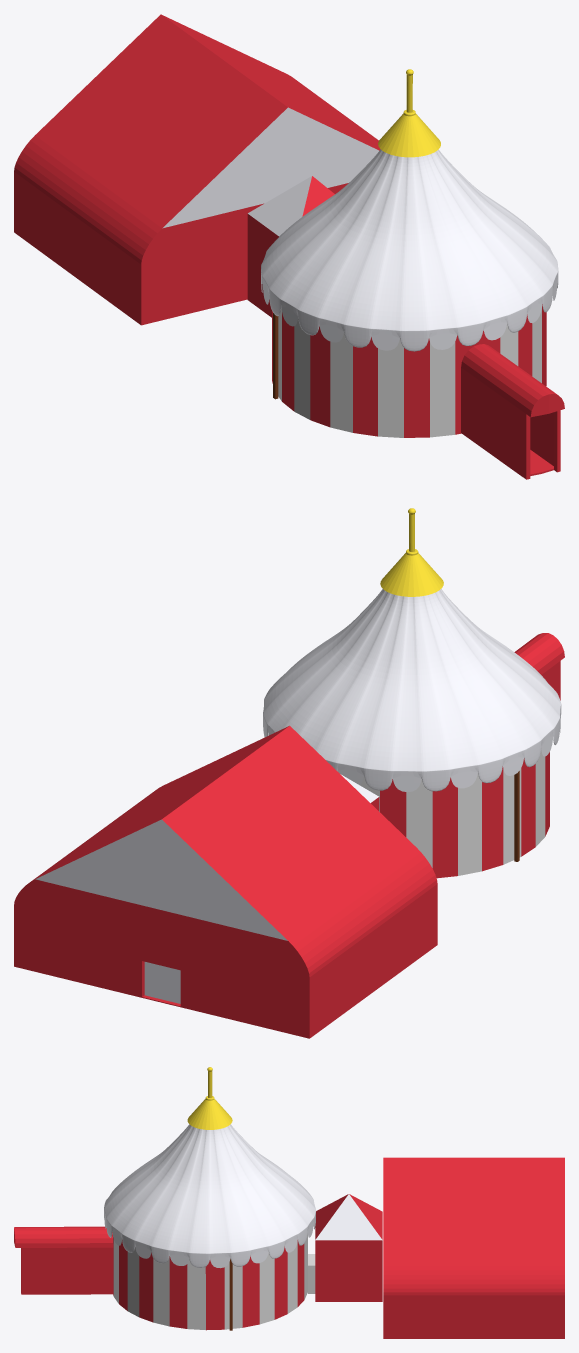
The model's file is BigTop(Ver4.2).fbx.
3 views of the same model, one above another, from view 1: azimuth 30°, elevation 25°; view 2: azimuth 150°, elevation 25°; view 3: azimuth 270°, elevation 25° (orthographic). The views are drawn at different scales.
Parts seen in each view (by area): view 1: Backrooms, Top, Main Body, Hallway, Topper; view 2: Backrooms, Top, Main Body, Topper; view 3: Backrooms, Top, Main Body, Hallway, Topper.
Part boxes in pixels (x1,y1,x2,y2): Backrooms: (14,14,380,325); Top: (261,149,558,351); Main Body: (272,304,564,479); Hallway: (247,176,334,317); Topper: (378,69,440,157); Backrooms: (14,725,437,1038); Top: (263,589,561,792); Main Body: (360,633,564,878); Topper: (380,508,443,596); Backrooms: (383,1157,564,1338); Top: (104,1124,315,1268); Main Body: (14,1226,315,1330); Hallway: (315,1194,382,1301); Topper: (187,1067,232,1129).
Bounding box in the file's own units: 493 × 497 × 1122.
